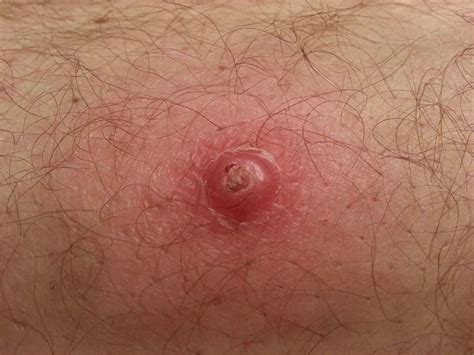Carcinoma: (183, 127, 306, 249)
